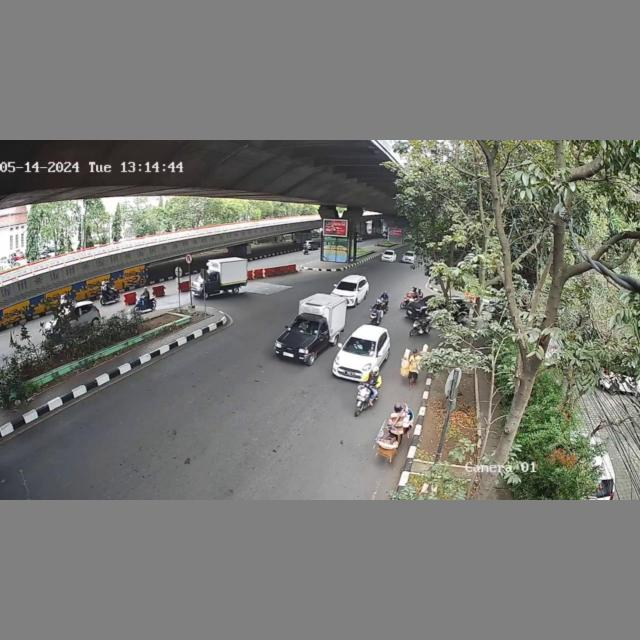windshield: (344, 336, 376, 359), (287, 318, 320, 336)
